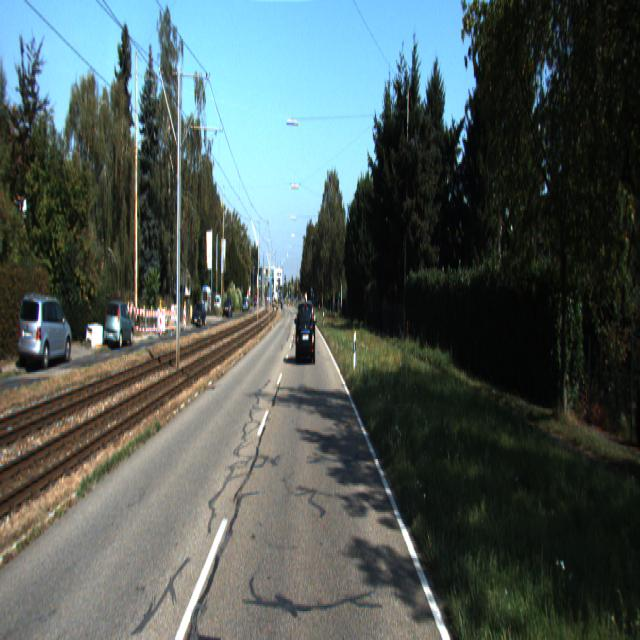Car: (19, 288, 72, 366), (104, 300, 136, 350), (296, 300, 316, 366), (192, 302, 206, 329)
